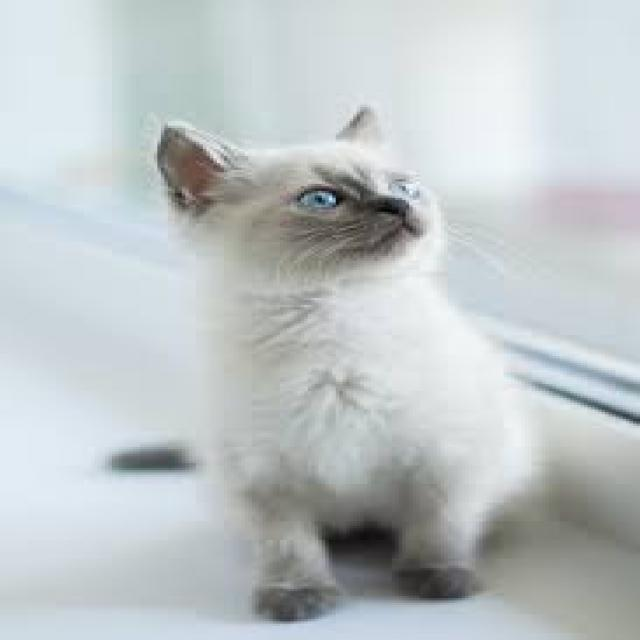Cat: (98, 99, 542, 626)
